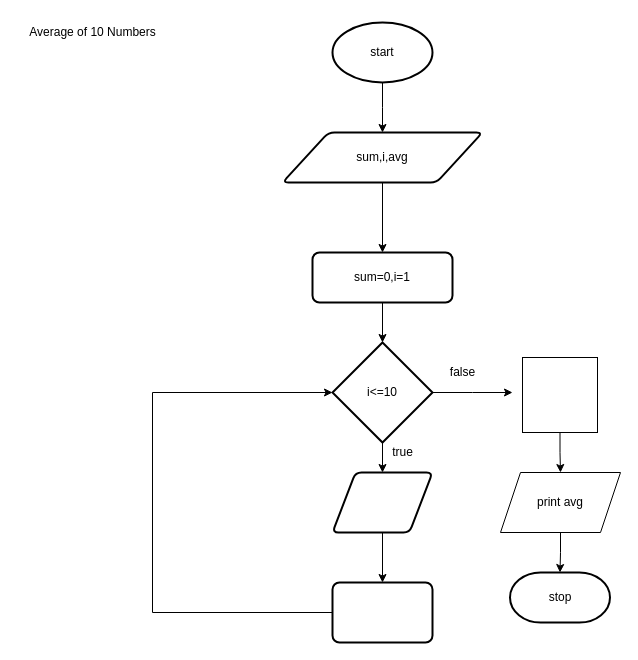
This 638x660 diagram has some shape labels left out. Here are the shapes that lost their labels. From the top down, the centre of each, then its label:
At (560,394): "avg=sum/10".
At (382,502): "input n".
At (382,612): "sum=sum+n increment i".
